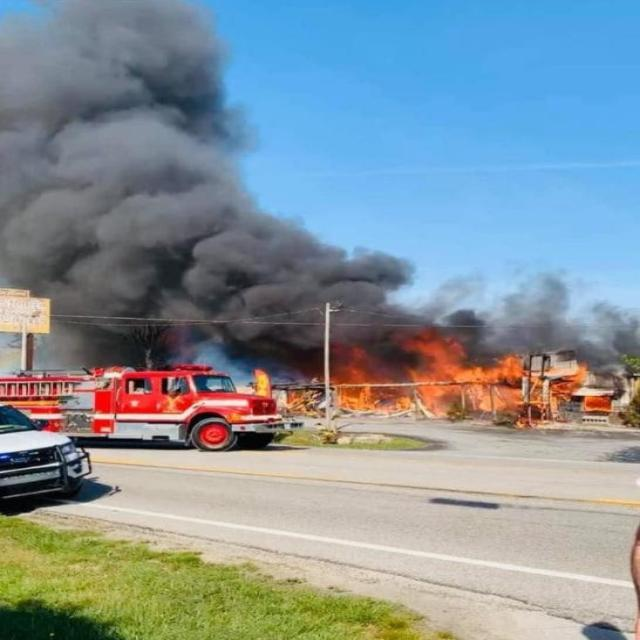Fire: (461, 368, 520, 381)
Smoke: (8, 27, 218, 271)
